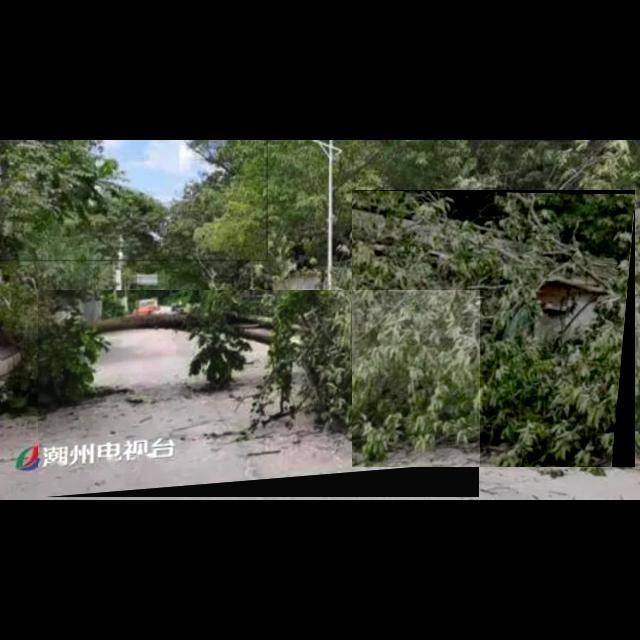fallen_tree: (38, 290, 480, 498), (352, 190, 636, 468)
